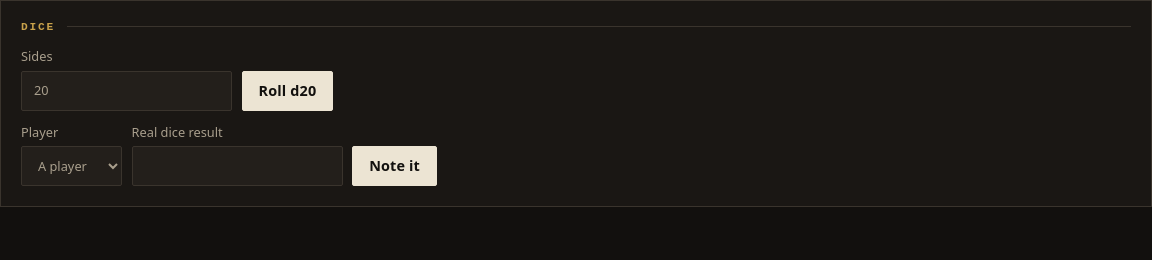
DiceBar › refuses 2.5 sides
The width and height of the screenshot is (1152, 260).
Replace the text in the field with test id "dice-sides" with "2.5": (126, 91) left=21, top=71, right=232, bottom=111
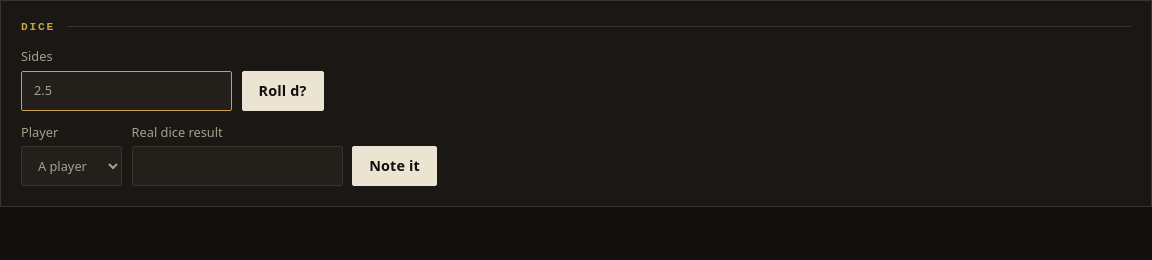
Click the button with test id "dice-roll": (283, 91) left=242, top=71, right=324, bottom=111
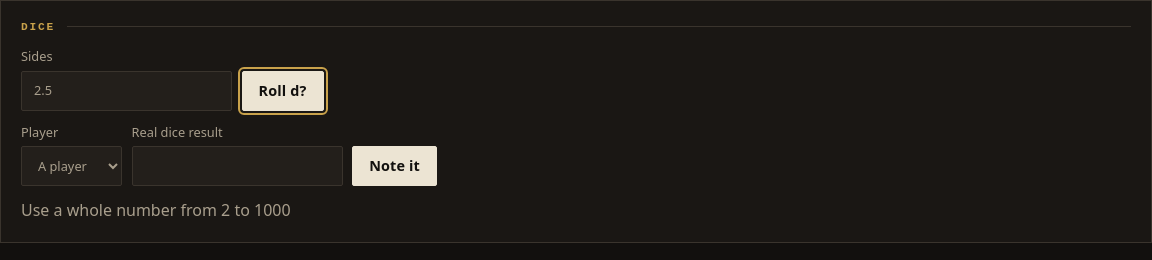
Now the text with test id "dice-error" shows "whole number", box left=21, top=199, right=291, bottom=221
